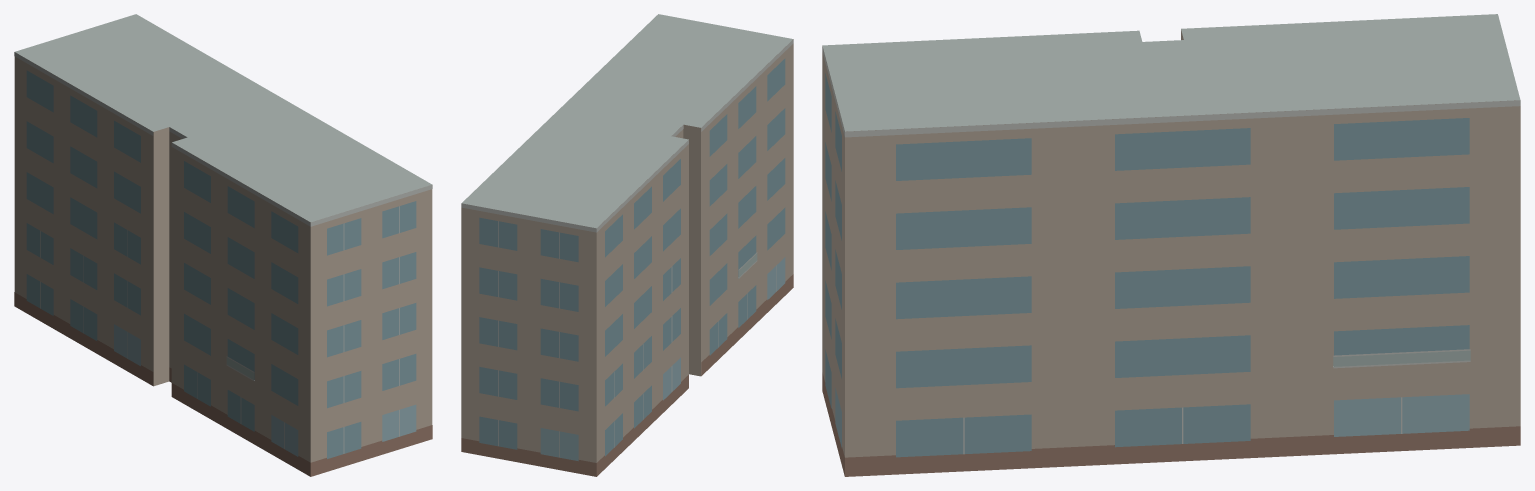
Rendered from survey-upis-32984326.glb.
3 renders of one model, left to right at view 1: azimuth 30°, elevation 25°; view 2: azimuth 150°, elevation 25°; view 3: azimuth 270°, elevation 25°, orthographic. The views are drawn at different scales.
Parts seen in each view (by area): view 1: survey-upis-32984326.tmp; view 2: survey-upis-32984326.tmp; view 3: survey-upis-32984326.tmp.
Boxes of the visible parts, <box> form: survey-upis-32984326.tmp: <box>14,14,432,476</box>; survey-upis-32984326.tmp: <box>461,14,793,476</box>; survey-upis-32984326.tmp: <box>822,14,1520,476</box>.
Size of the model in its own units: 10.37 by 14.2 by 26.03.
